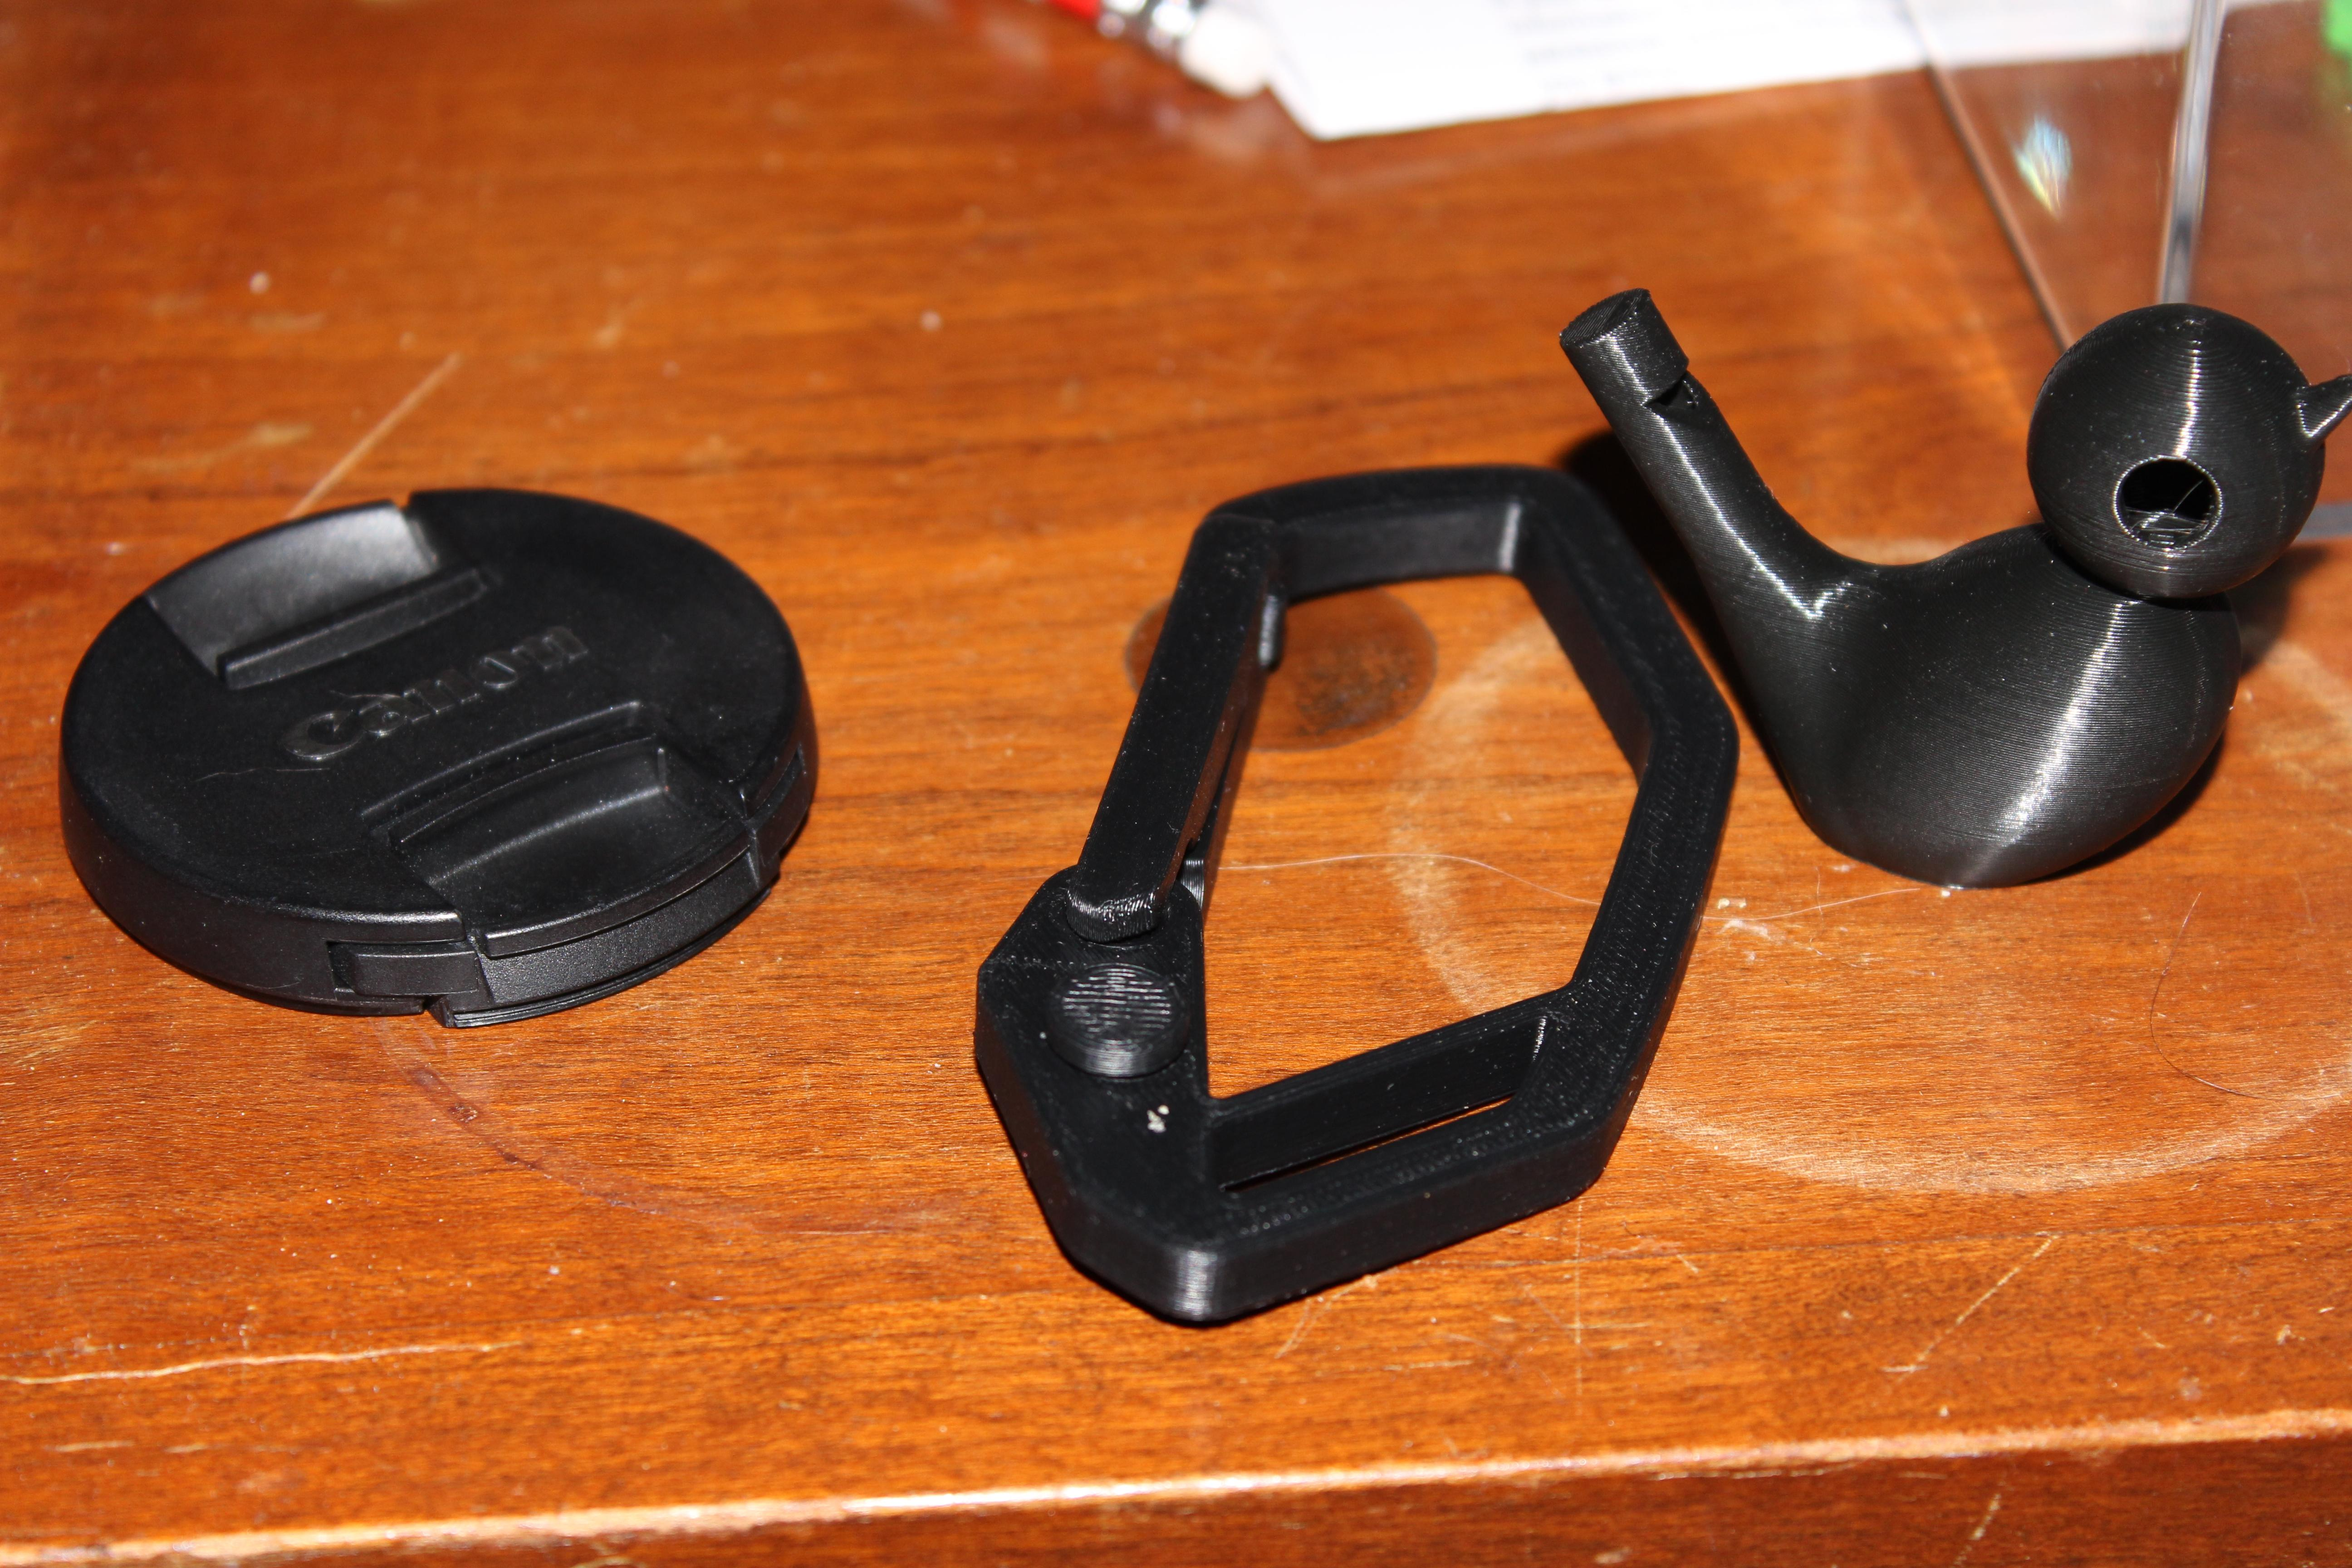carabiner: (940, 427, 1771, 1368)
